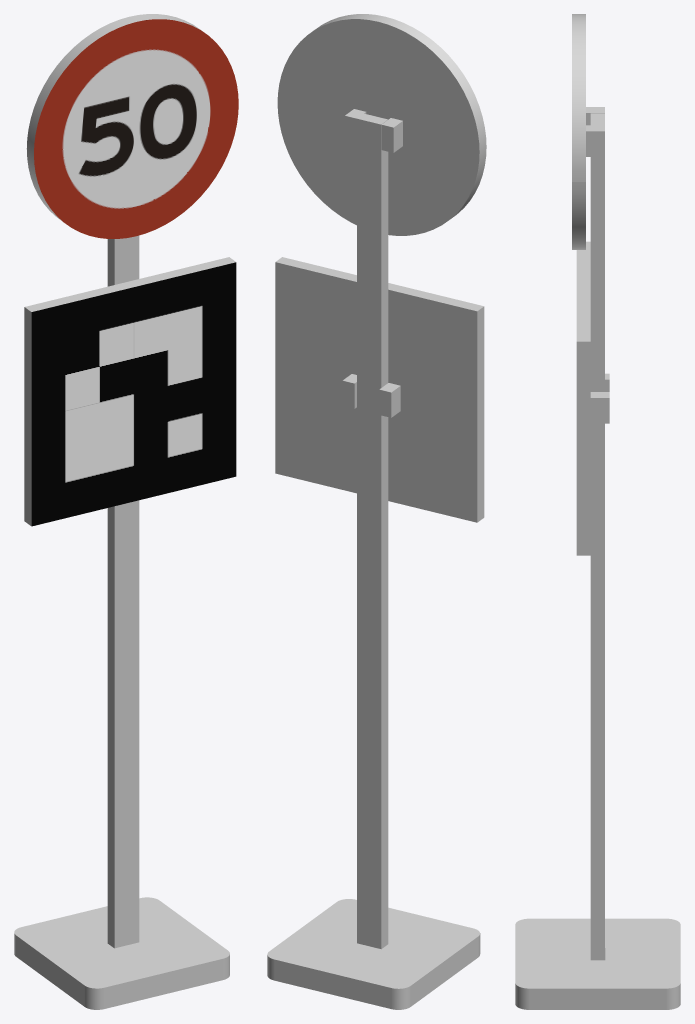
File: velo50_aruco.dae
3 views of the same model, side by side, from view 1: azimuth 30°, elevation 25°; view 2: azimuth 150°, elevation 25°; view 3: azimuth 270°, elevation 25° (orthographic).
Visible parts, largest first — view 1: af542893-2ee5-43d4-a307-fbc5222aece4, a7f053fe-a6ba-4269-acfe-a5df32b82bdd, a9f50797-3bbe-44d2-b07e-c6b7c3787f7b, af917ea2-1a6a-4740-81fd-304527b79131, a46e9e6d-4913-4884-b1ef-59ceb3e9bd2f, a258474f-2e5f-42d5-bb3d-5483bbb45b93, a5997053-933f-4ea1-bf56-672d4d2ac30a; view 2: ab035bc3-7619-4f6b-9562-7df501cd182e, af89bec1-43be-45e1-97e7-1f03d9633443, a9f50797-3bbe-44d2-b07e-c6b7c3787f7b, af917ea2-1a6a-4740-81fd-304527b79131, a46e9e6d-4913-4884-b1ef-59ceb3e9bd2f, a258474f-2e5f-42d5-bb3d-5483bbb45b93, a5997053-933f-4ea1-bf56-672d4d2ac30a, a371924a-0e85-4abb-8ccf-257c39364755, a4018ba1-a916-4938-be25-b52c43f744fd; view 3: af917ea2-1a6a-4740-81fd-304527b79131, a9f50797-3bbe-44d2-b07e-c6b7c3787f7b, a46e9e6d-4913-4884-b1ef-59ceb3e9bd2f, a26796a7-cc40-4c2b-a46f-4225e604dabf, a5997053-933f-4ea1-bf56-672d4d2ac30a, aaeb891b-5dc9-43d4-93eb-64bc9d33b22a, a1eee254-06e3-45f1-901d-4ed9008d8cfb.
Boxes of the visible parts, bbox=[...] form: af542893-2ee5-43d4-a307-fbc5222aece4: bbox=[31, 262, 236, 526]; a7f053fe-a6ba-4269-acfe-a5df32b82bdd: bbox=[34, 19, 238, 238]; a9f50797-3bbe-44d2-b07e-c6b7c3787f7b: bbox=[107, 235, 139, 948]; af917ea2-1a6a-4740-81fd-304527b79131: bbox=[14, 897, 229, 1009]; a46e9e6d-4913-4884-b1ef-59ceb3e9bd2f: bbox=[26, 14, 202, 221]; a258474f-2e5f-42d5-bb3d-5483bbb45b93: bbox=[24, 307, 31, 526]; a5997053-933f-4ea1-bf56-672d4d2ac30a: bbox=[25, 257, 235, 311]; ab035bc3-7619-4f6b-9562-7df501cd182e: bbox=[275, 262, 477, 522]; af89bec1-43be-45e1-97e7-1f03d9633443: bbox=[277, 19, 479, 235]; a9f50797-3bbe-44d2-b07e-c6b7c3787f7b: bbox=[357, 113, 388, 949]; af917ea2-1a6a-4740-81fd-304527b79131: bbox=[267, 899, 480, 1009]; a46e9e6d-4913-4884-b1ef-59ceb3e9bd2f: bbox=[312, 14, 486, 218]; a258474f-2e5f-42d5-bb3d-5483bbb45b93: bbox=[477, 306, 484, 522]; a5997053-933f-4ea1-bf56-672d4d2ac30a: bbox=[275, 257, 483, 311]; a371924a-0e85-4abb-8ccf-257c39364755: bbox=[379, 383, 400, 417]; a4018ba1-a916-4938-be25-b52c43f744fd: bbox=[381, 118, 402, 152]; af917ea2-1a6a-4740-81fd-304527b79131: bbox=[515, 918, 680, 1009]; a9f50797-3bbe-44d2-b07e-c6b7c3787f7b: bbox=[590, 113, 604, 960]; a46e9e6d-4913-4884-b1ef-59ceb3e9bd2f: bbox=[572, 14, 585, 249]; a26796a7-cc40-4c2b-a46f-4225e604dabf: bbox=[576, 341, 590, 555]; a5997053-933f-4ea1-bf56-672d4d2ac30a: bbox=[576, 241, 590, 341]; aaeb891b-5dc9-43d4-93eb-64bc9d33b22a: bbox=[590, 392, 609, 423]; a1eee254-06e3-45f1-901d-4ed9008d8cfb: bbox=[586, 125, 604, 156].
Bounding box in the file's own units: 0.05 × 0.035 × 0.222.
2 materials, 2 textured.
